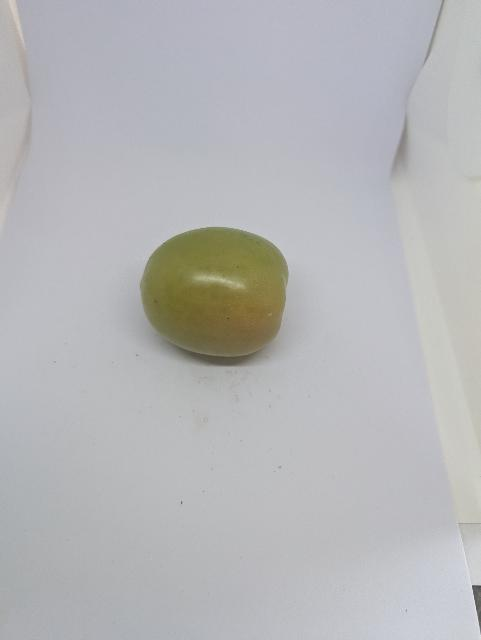breaker: (141, 226, 293, 361)
